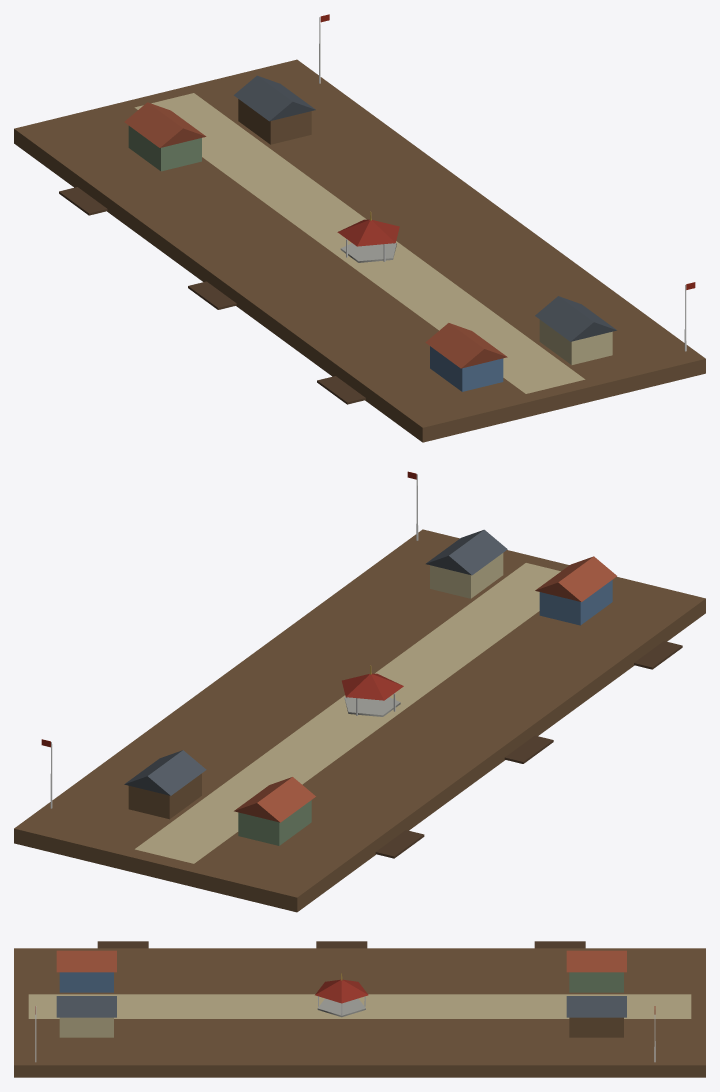
File: mobile-low.glb
3 renders of one model, top to bottom at view 1: azimuth 30°, elevation 25°; view 2: azimuth 150°, elevation 25°; view 3: azimuth 270°, elevation 25°, orthographic. The views are drawn at different scales.
Visible parts, largest first — view 1: lm.pier-39; view 2: lm.pier-39; view 3: lm.pier-39.
Part boxes in pixels (x1=…): lm.pier-39: x1=14, y1=14, x2=705, y2=442; lm.pier-39: x1=14, y1=471, x2=705, y2=912; lm.pier-39: x1=14, y1=941, x2=705, y2=1077.
Size of the model in its own units: 83.6 by 20.9 by 190.
